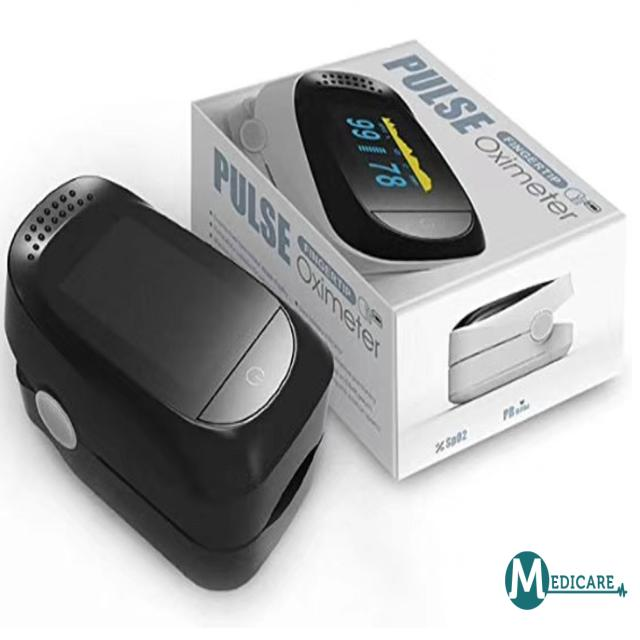oximeter: (0, 144, 338, 602)
